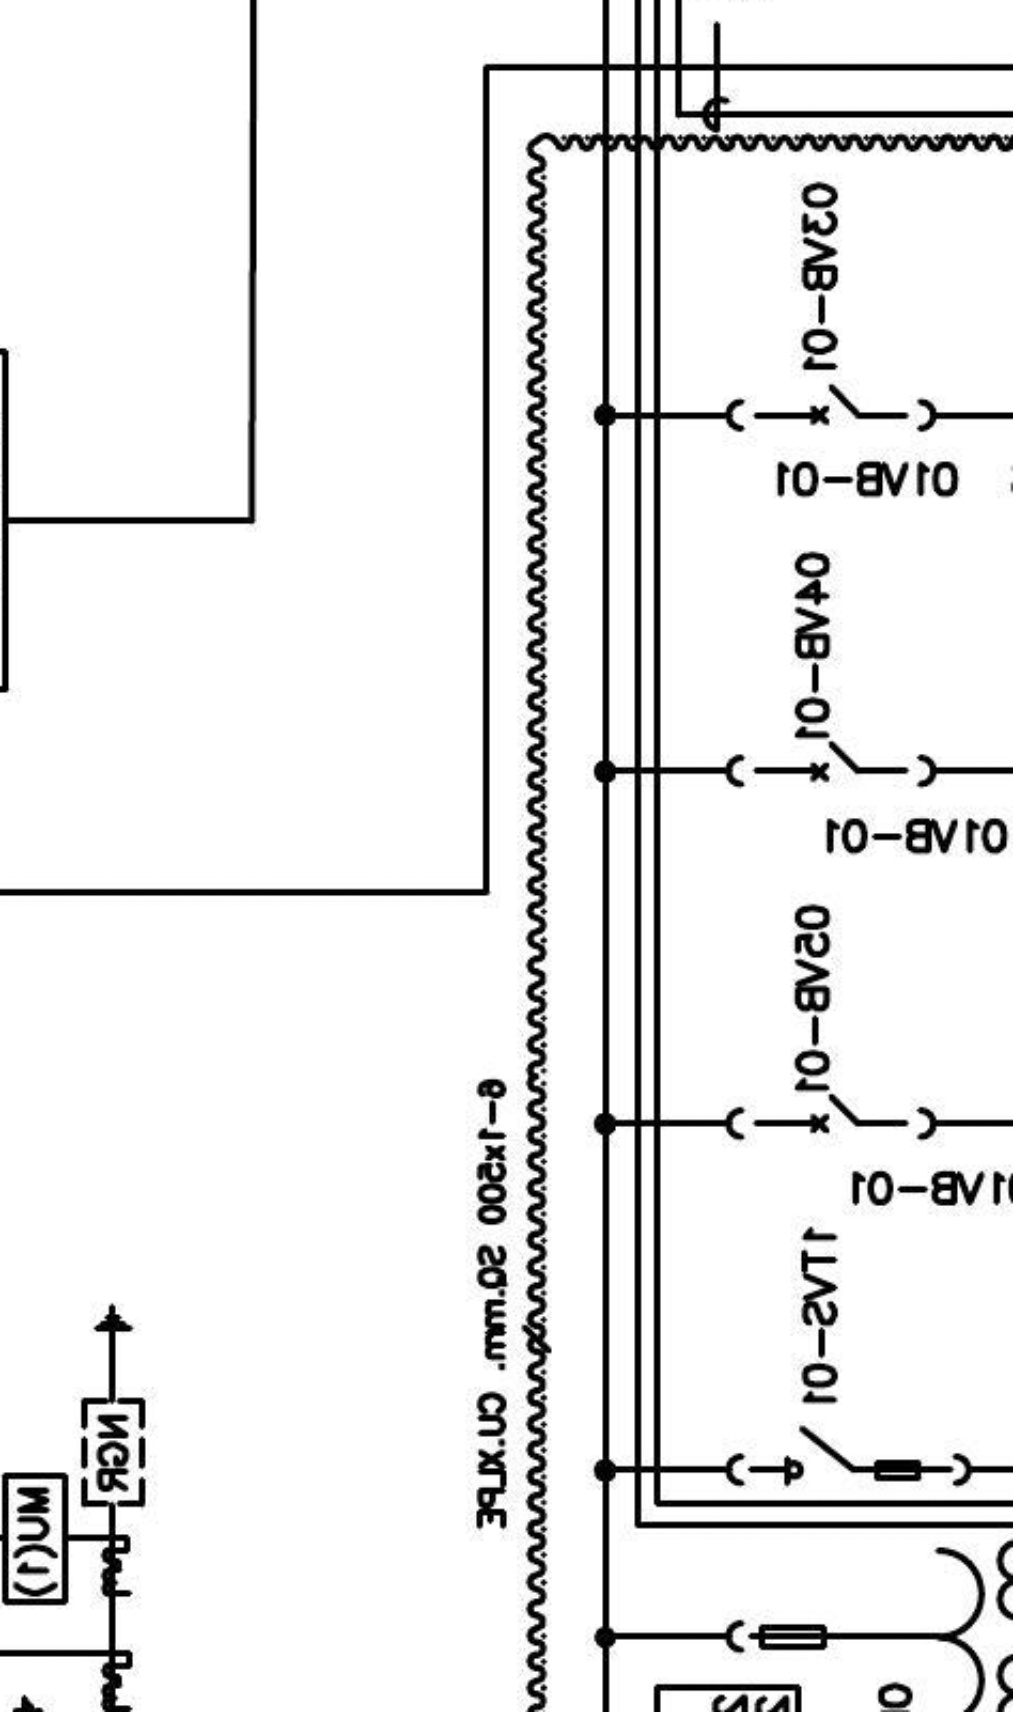22_breaker: (725, 740, 938, 790), (724, 1092, 937, 1142), (725, 383, 937, 433)
22_ds: (725, 1424, 973, 1488)
MU: (1, 1471, 69, 1606)
NGR_future: (78, 1302, 147, 1508)
